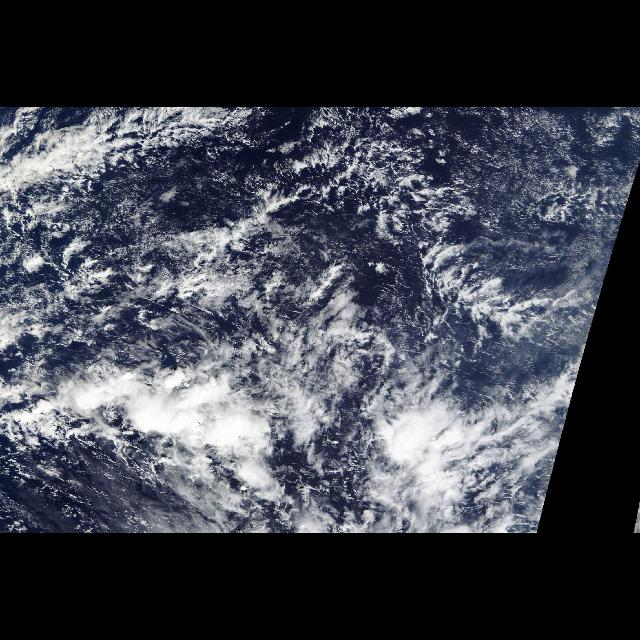Fish: (1, 108, 237, 186)
Sugar: (437, 110, 626, 268), (10, 441, 232, 533), (108, 156, 282, 214)
